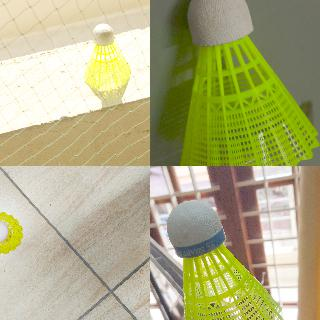shuttlecock: (179, 0, 319, 165), (166, 201, 283, 319), (84, 23, 130, 89), (0, 211, 23, 254)
